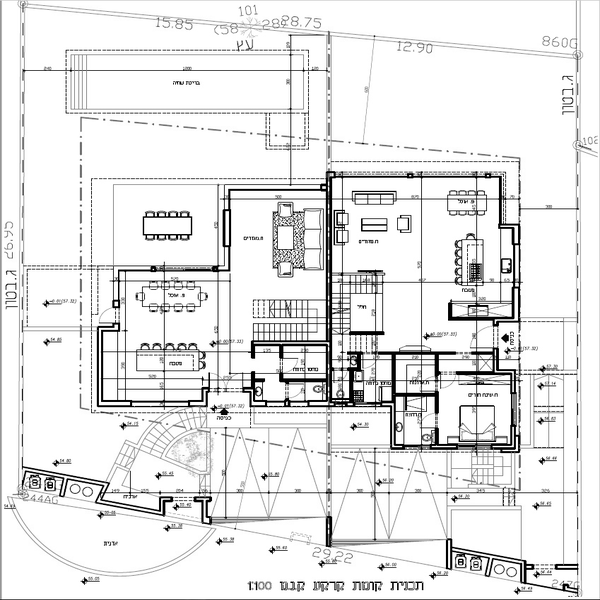door: (466, 325, 500, 356), (273, 351, 307, 376), (438, 365, 459, 394), (416, 370, 438, 396), (290, 374, 308, 401), (362, 350, 378, 365)
room: (216, 175, 341, 407), (323, 178, 520, 320), (87, 262, 211, 417), (391, 348, 522, 454)
